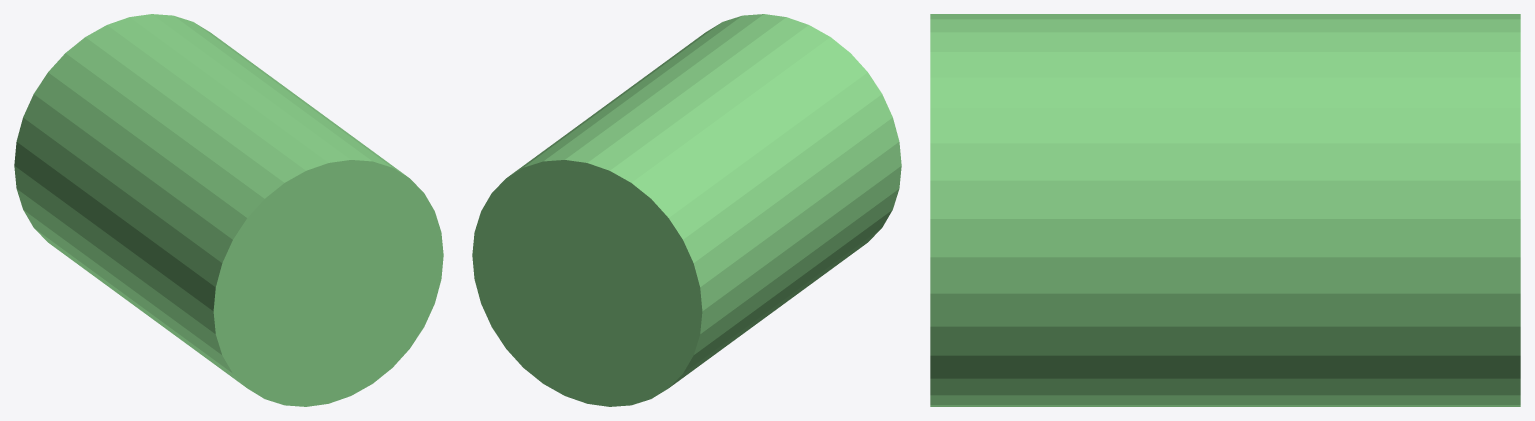
The picture shows the model from 3 angles, left to right: view 1: azimuth 30°, elevation 25°; view 2: azimuth 150°, elevation 25°; view 3: azimuth 270°, elevation 25°; orthographic projection. The views are drawn at different scales.
Visible parts, largest first — view 1: world; view 2: world; view 3: world.
Boxes of the visible parts, x1,y1,x2,y2 form: world: (14,14,443,406); world: (472,14,901,406); world: (930,14,1520,406).
Bounding box in the file's own units: 2 × 2 × 3.
